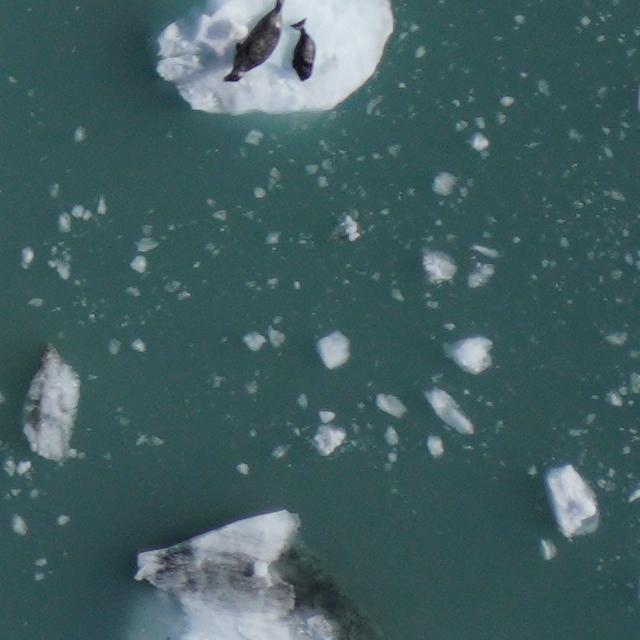seal: (220, 2, 287, 87), (287, 15, 320, 85)
